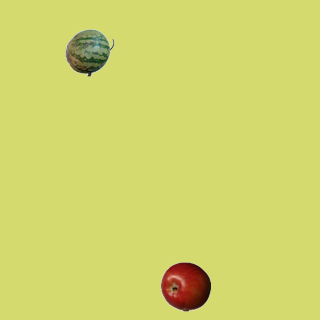Apple Braeburn: (160, 261, 210, 311)
Watermelon: (64, 27, 114, 77)
